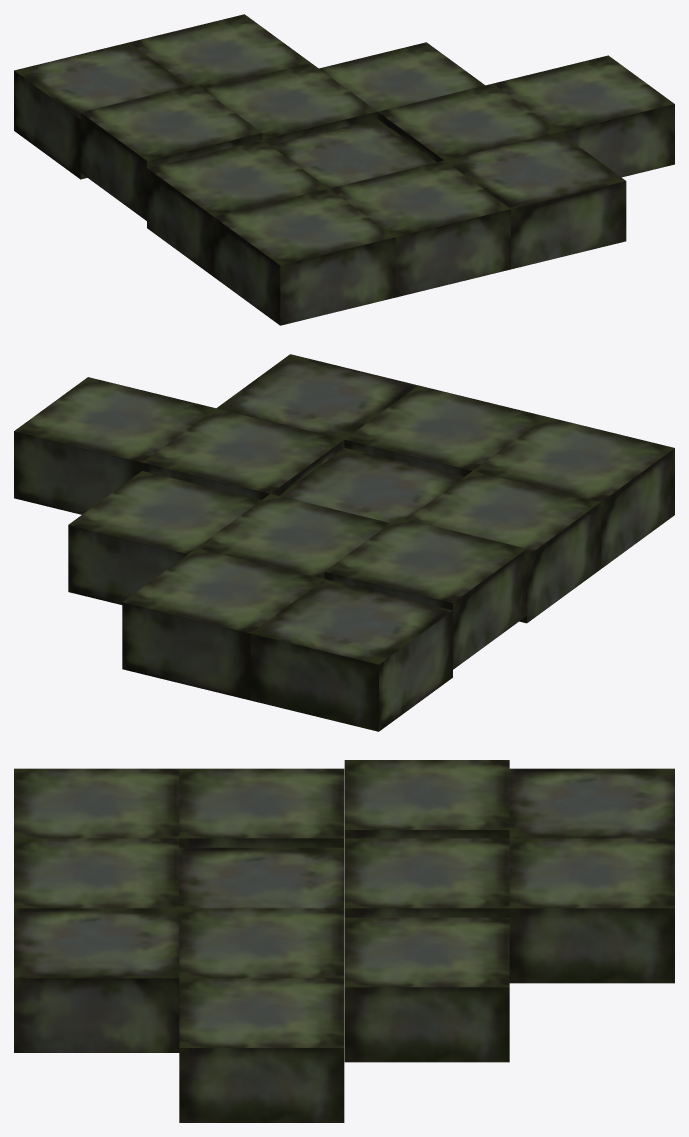
File: bridge-end-02.fbx
3 views of the same model, one above another, from view 1: azimuth 30°, elevation 25°; view 2: azimuth 150°, elevation 25°; view 3: azimuth 270°, elevation 25° (orthographic). The views are drawn at different scales.
Visible parts, largest first — view 1: bridge_end_02; view 2: bridge_end_02; view 3: bridge_end_02.
Part boxes in pixels (x1=…): bridge_end_02: x1=14, y1=14, x2=674, y2=325; bridge_end_02: x1=14, y1=354, x2=674, y2=731; bridge_end_02: x1=14, y1=760, x2=674, y2=1122.
Size of the model in its own units: 400 by 61.84 by 400.
